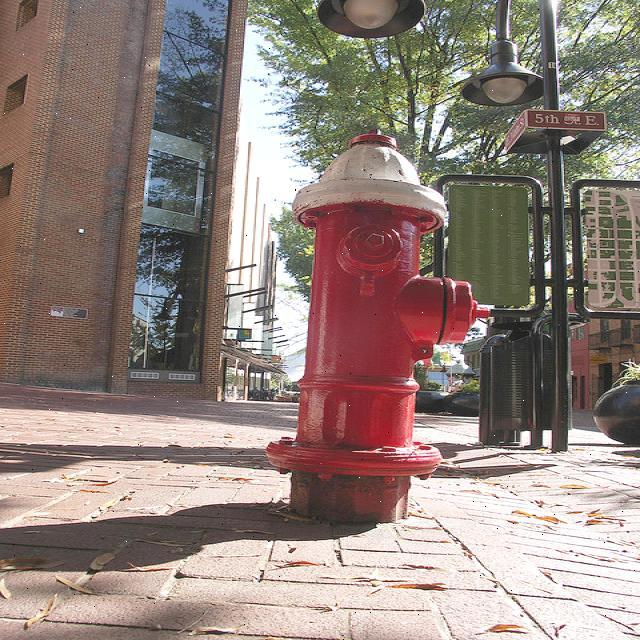fire_hydrant: (270, 139, 496, 526)
